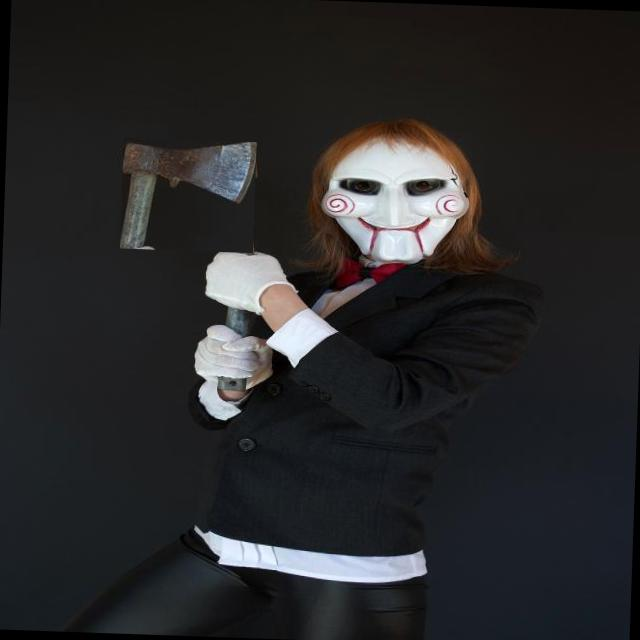Axe: (121, 142, 256, 248), (226, 308, 249, 334)
